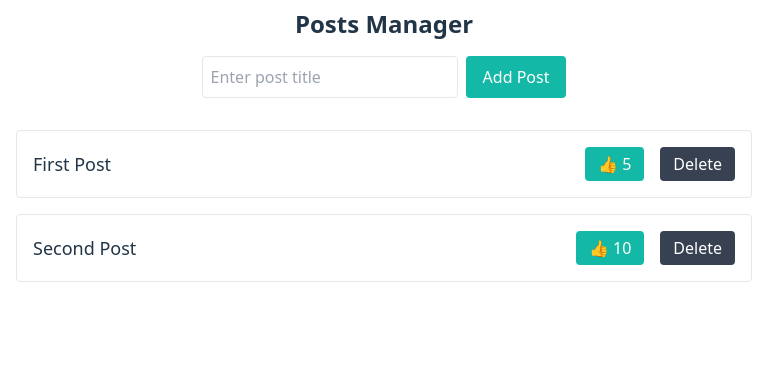
Test: Posts › Should create a new post
Type "new Post" into the field labelled "Enter post title". click: (330, 77)
box: [202, 56, 458, 98]
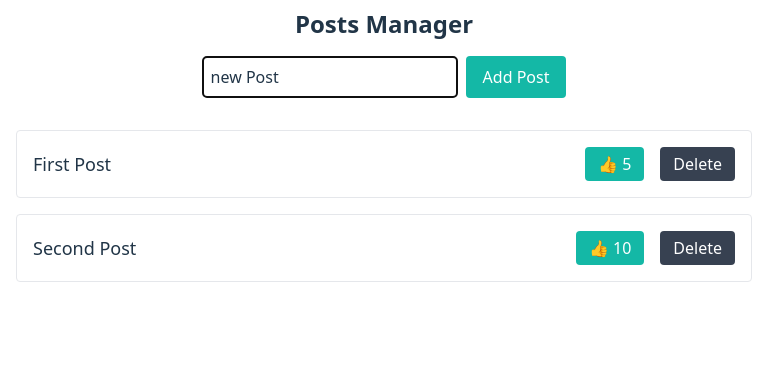
Click the button "Add Post". click: (516, 77)
box: [466, 56, 566, 98]
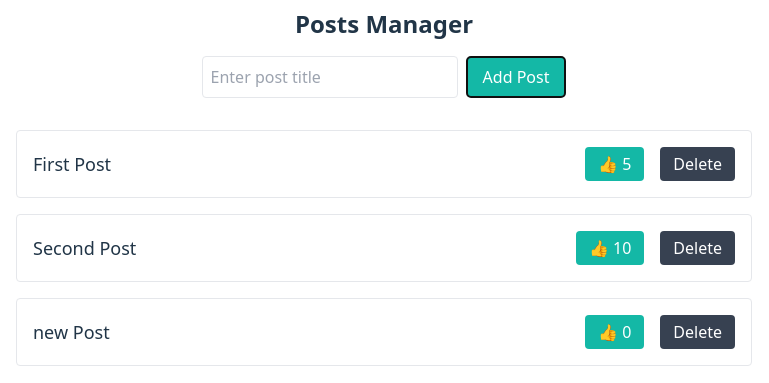
expect the heading "new Post" is shown: met, box [33, 318, 110, 346]
